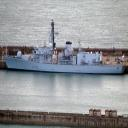Fragata: (4, 19, 127, 77)
